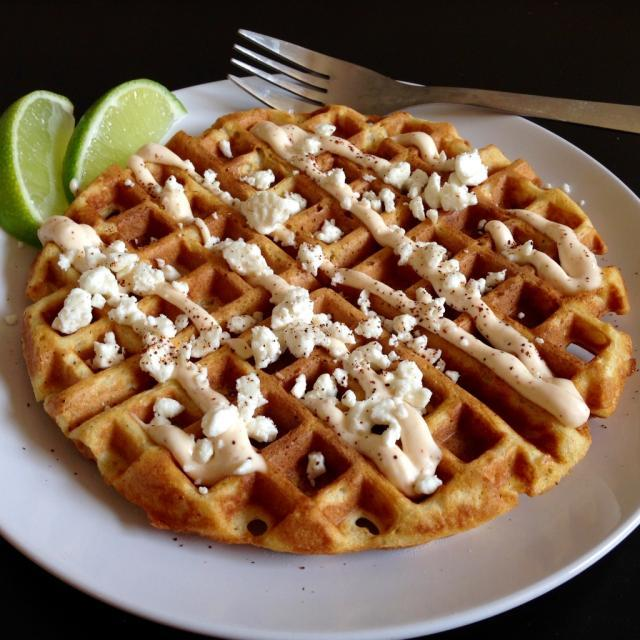Waffle: (23, 106, 631, 556)
